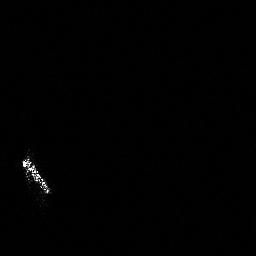ship: (20, 150, 52, 199)
